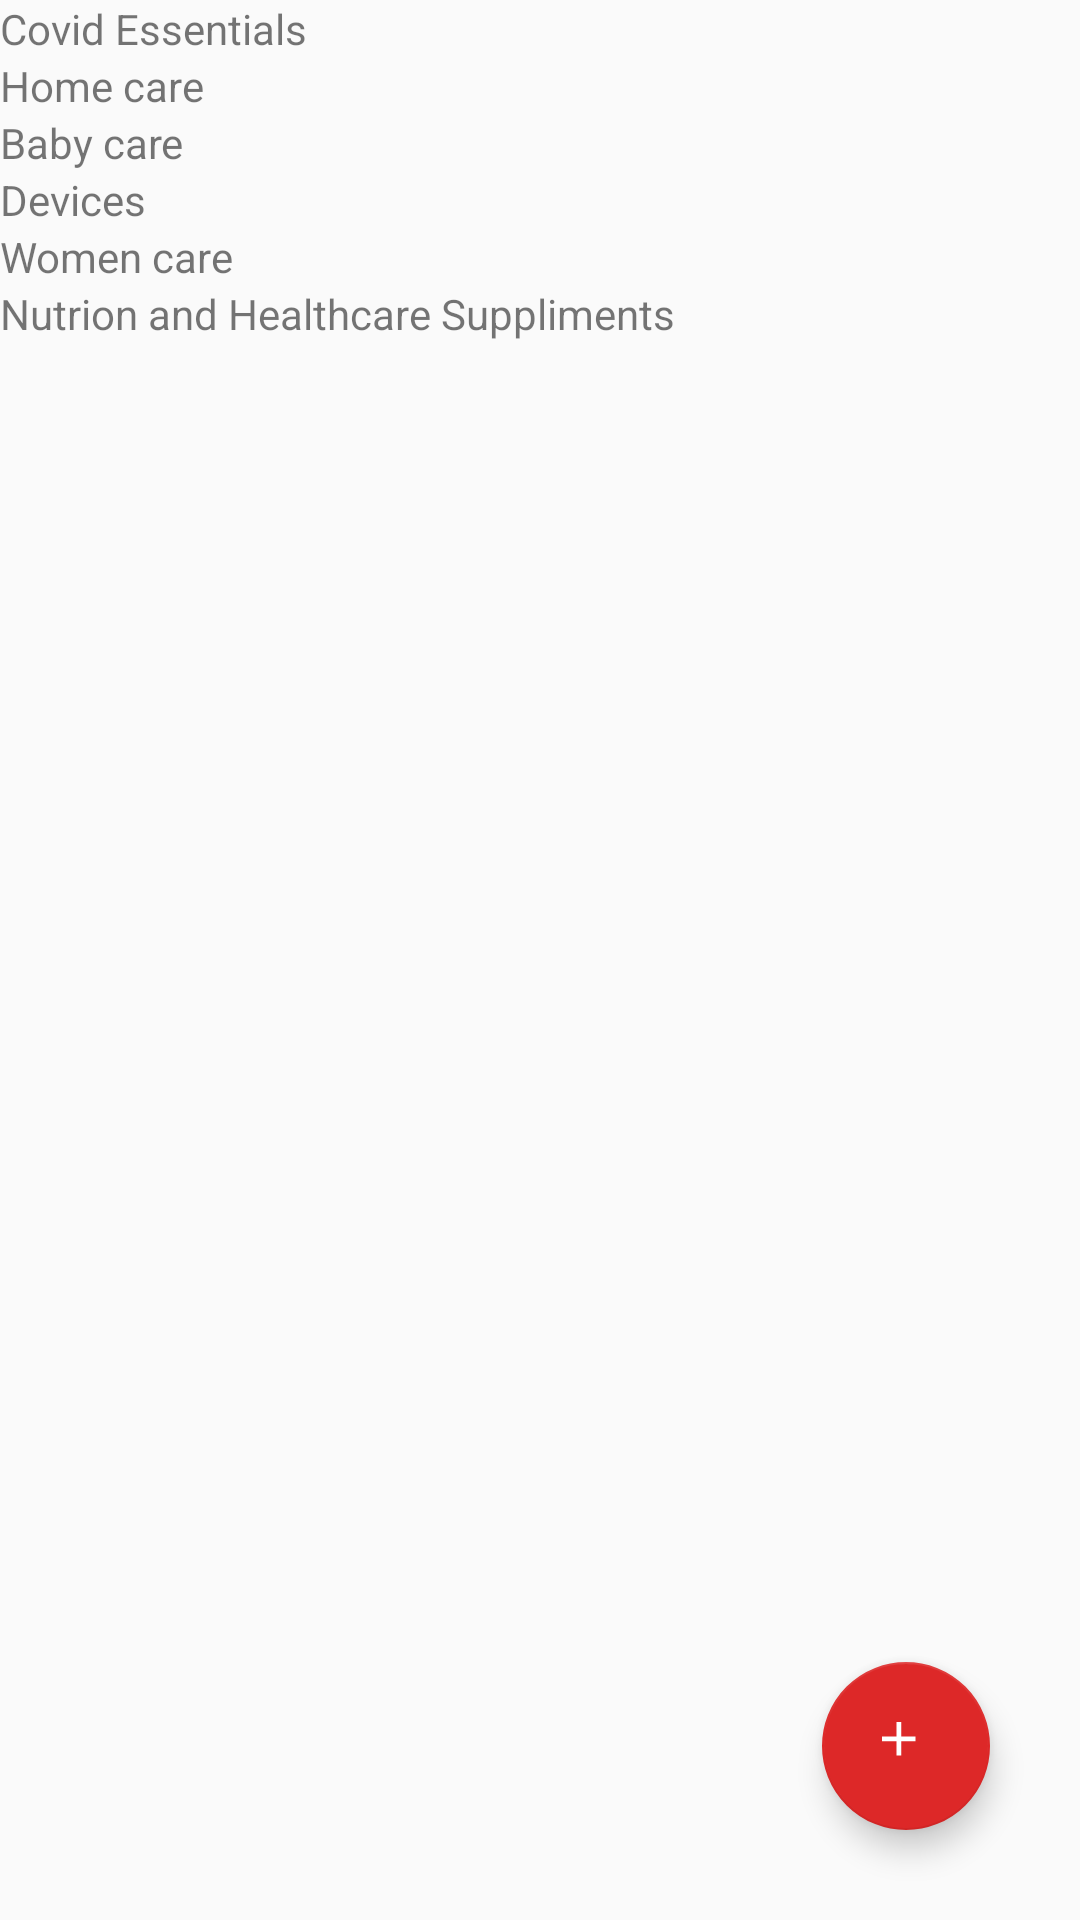

Screen size 1080*1920. Icon name, then its box in pixels as (x1, y1, x2, y2):
wadd: (822, 1662, 990, 1830)
